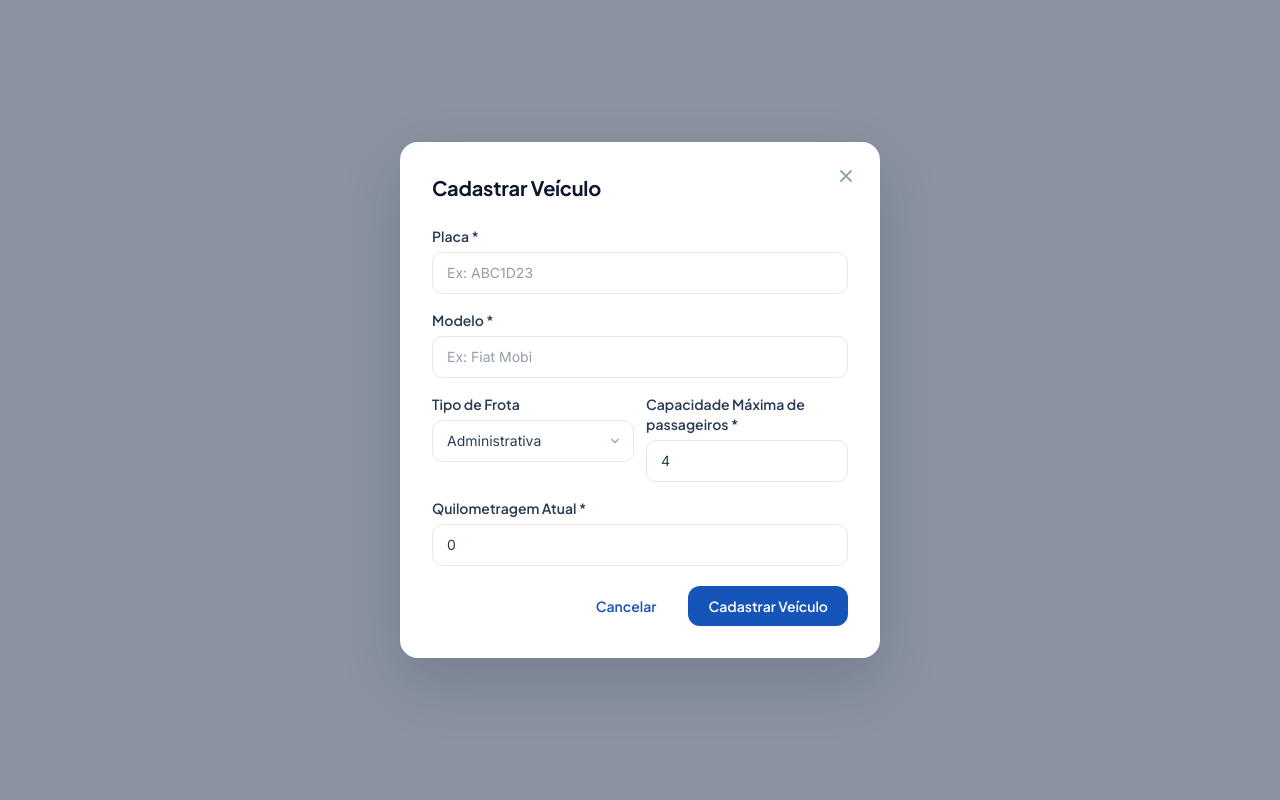
Test: ModalVeiculo › deve rejeitar capacidade igual a zero ou negativa
Type "ABC1D23" into the field labelled "Placa *" at [640, 273], box 432,252 -> 848,294
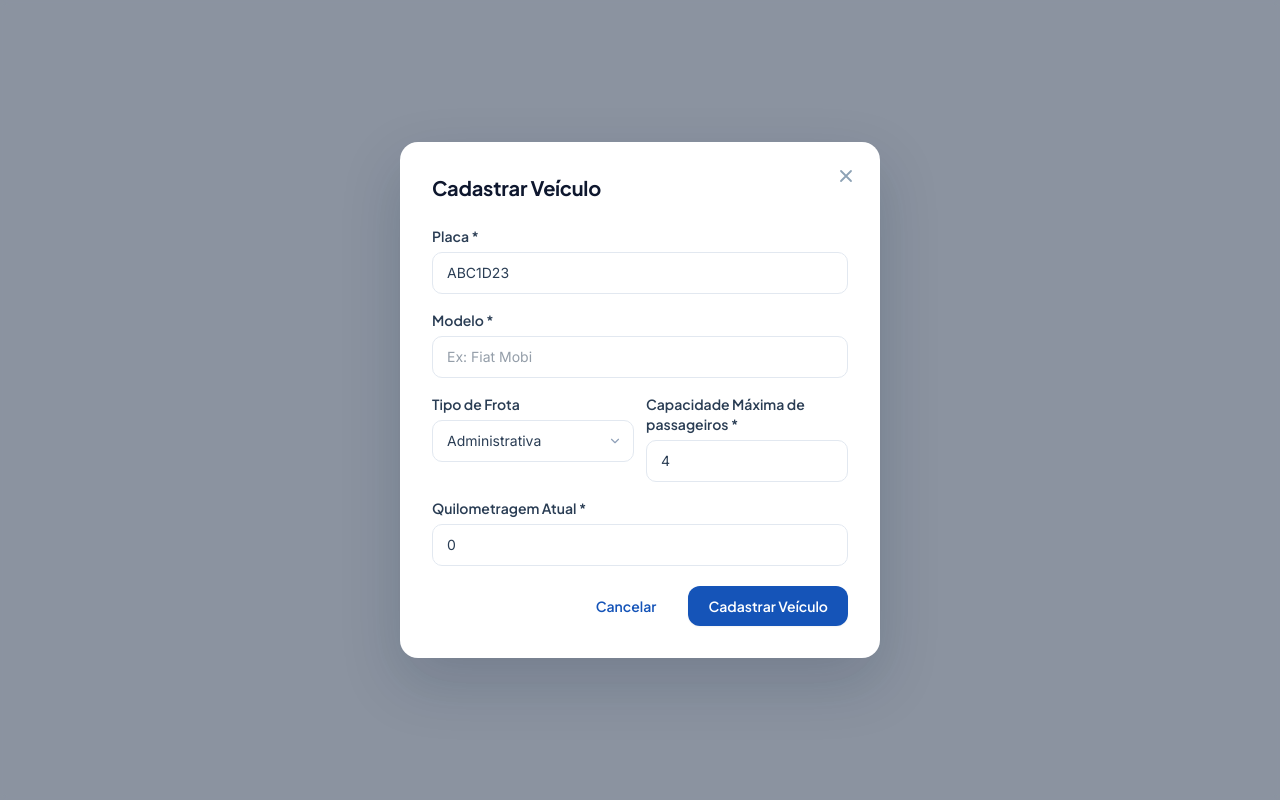
Type "Gol 1.0" into the field labelled "Modelo *" at [640, 357], box 432,336 -> 848,378
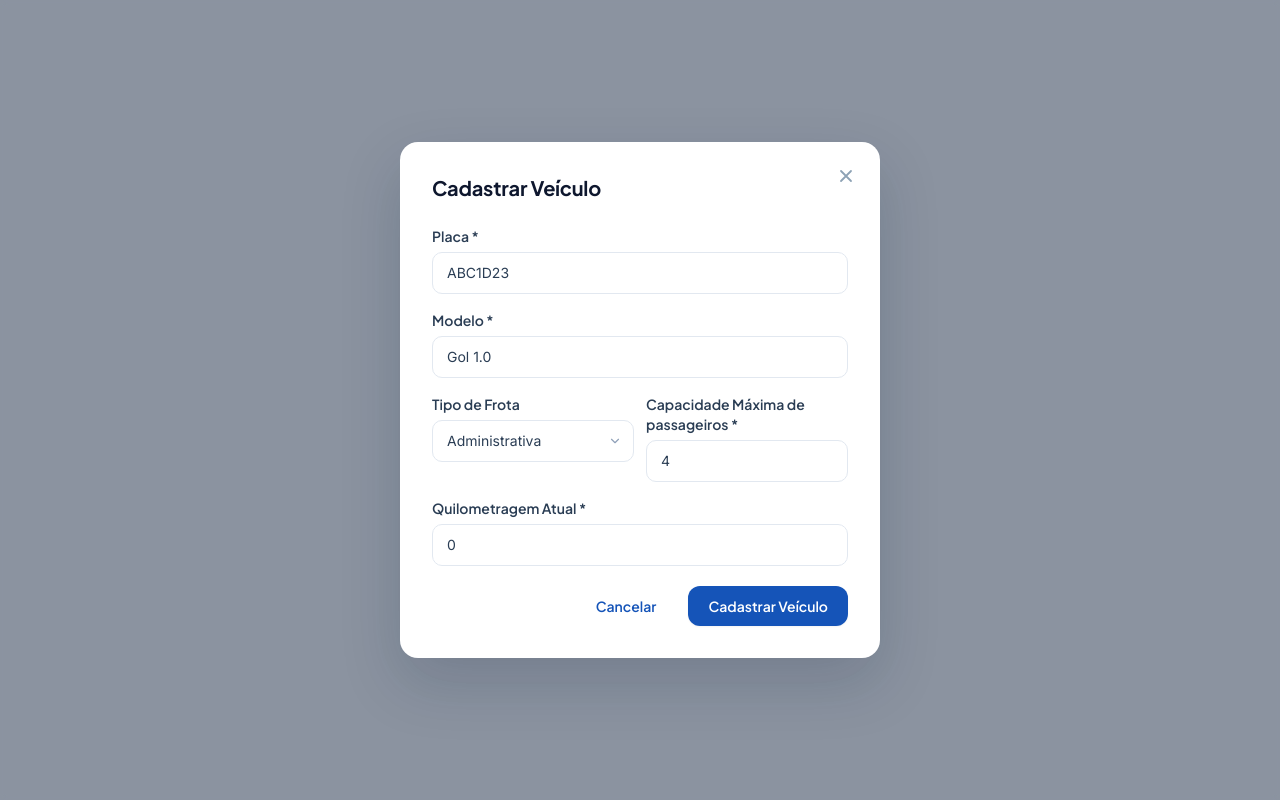
Replace the text in the number field labelled "Capacidade Máxima de passageiros *" with "0" at [747, 461], box 646,440 -> 848,482
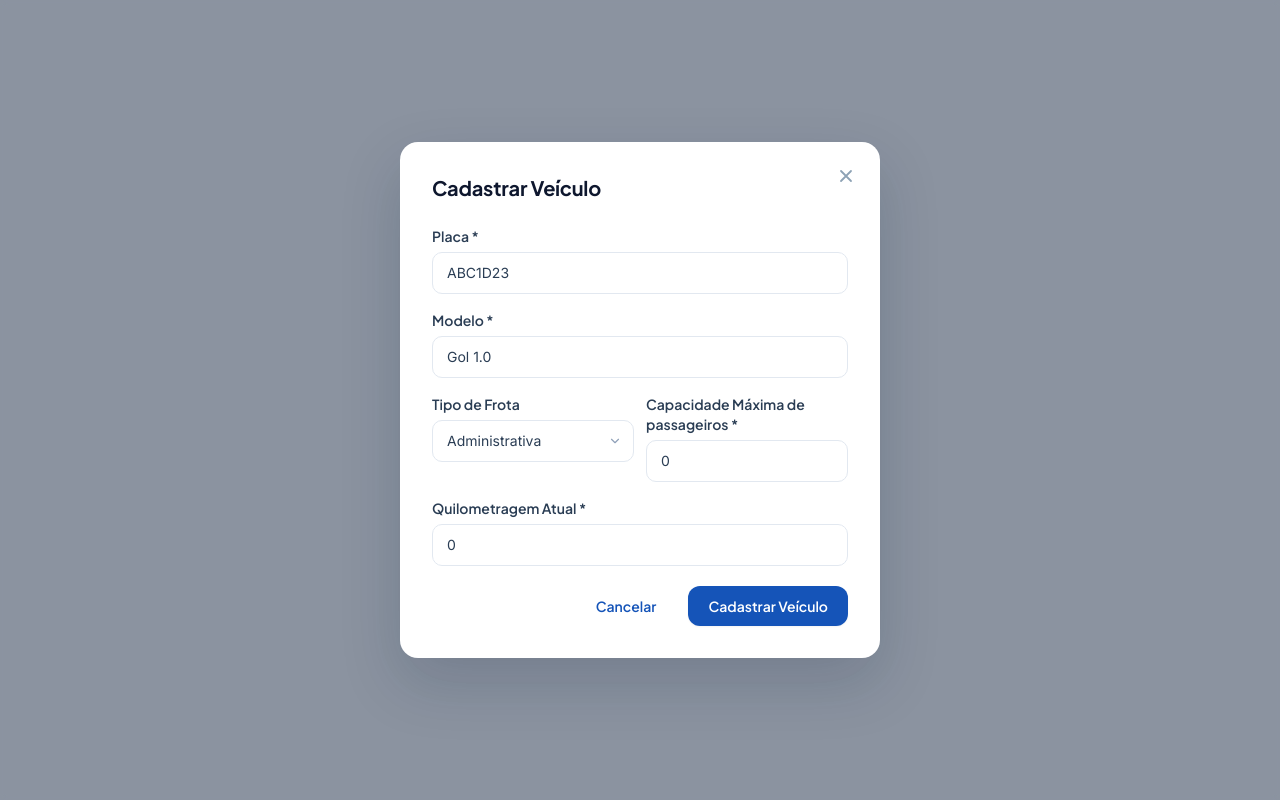
Click the button "Cadastrar Veículo" at [768, 606], box 688,586 -> 848,626
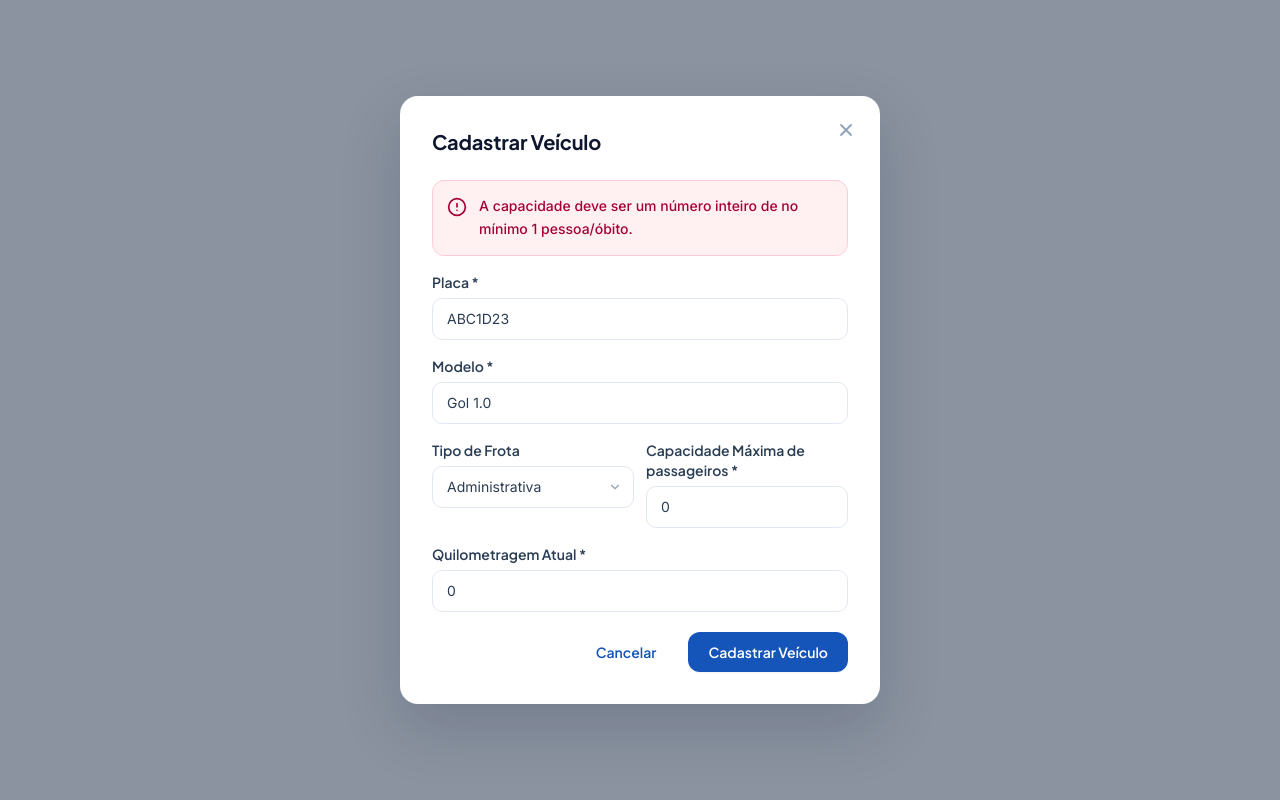
Expected: the text "A capacidade deve ser um número inteiro de no mínimo 1" is shown, 479,197 -> 798,237
